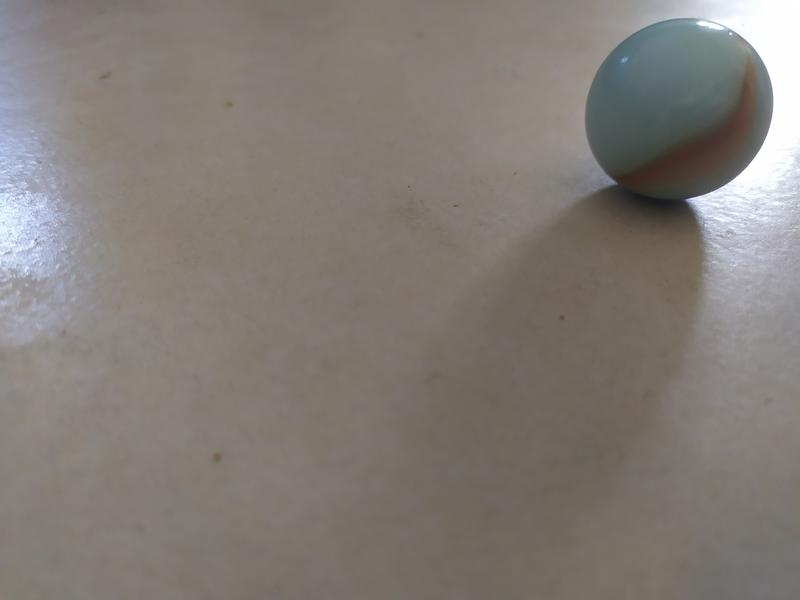Warning: (580, 13, 780, 205)
